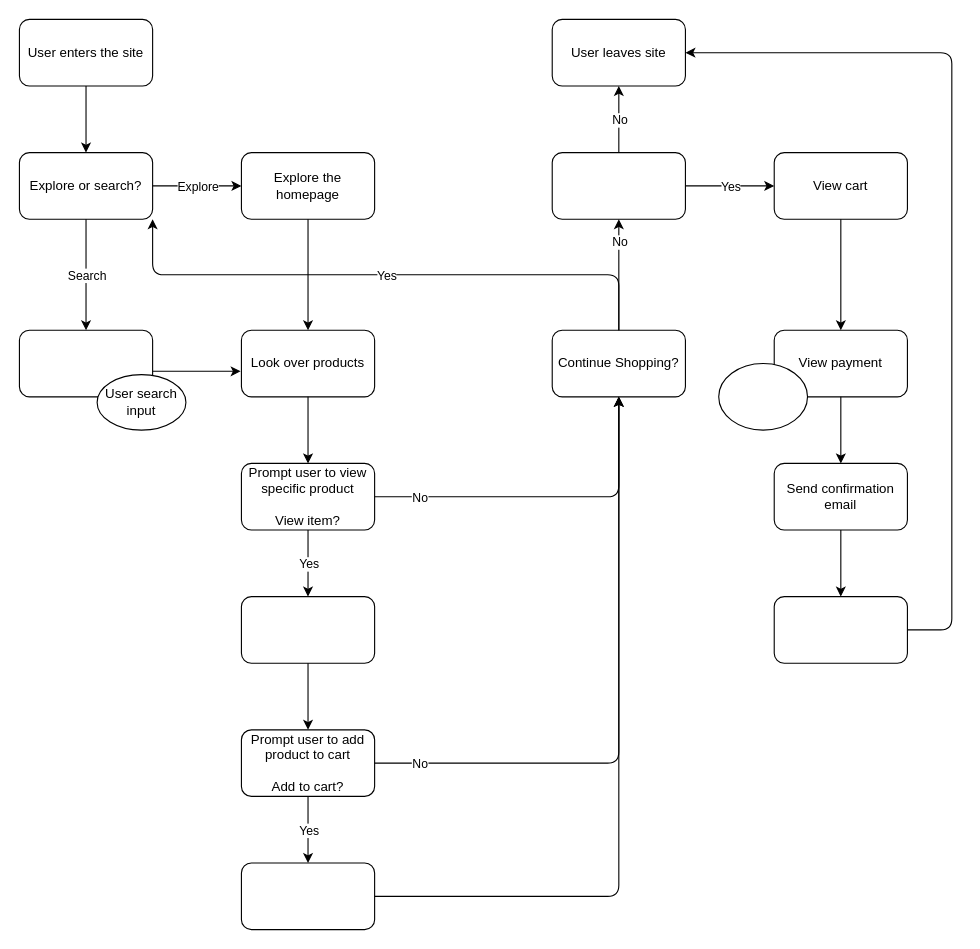
Some shapes in this 980 by 949 pixel diagram are drawn without their labels. The shapes that lost their labels are listed below. From the top down, each one's centre as x and y in pixels, then its label:
pixel 618 185: Checkout?
pixel 85 363: Search for a product
pixel 763 396: Input payment information
pixel 307 629: Show item details page
pixel 840 629: Show confirmation screen
pixel 307 896: Show an added to cart notification
